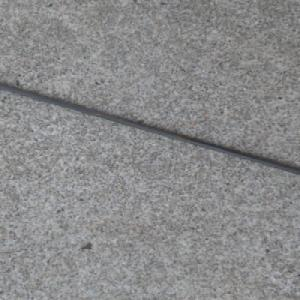LuggagePart: (0, 83, 300, 176)
